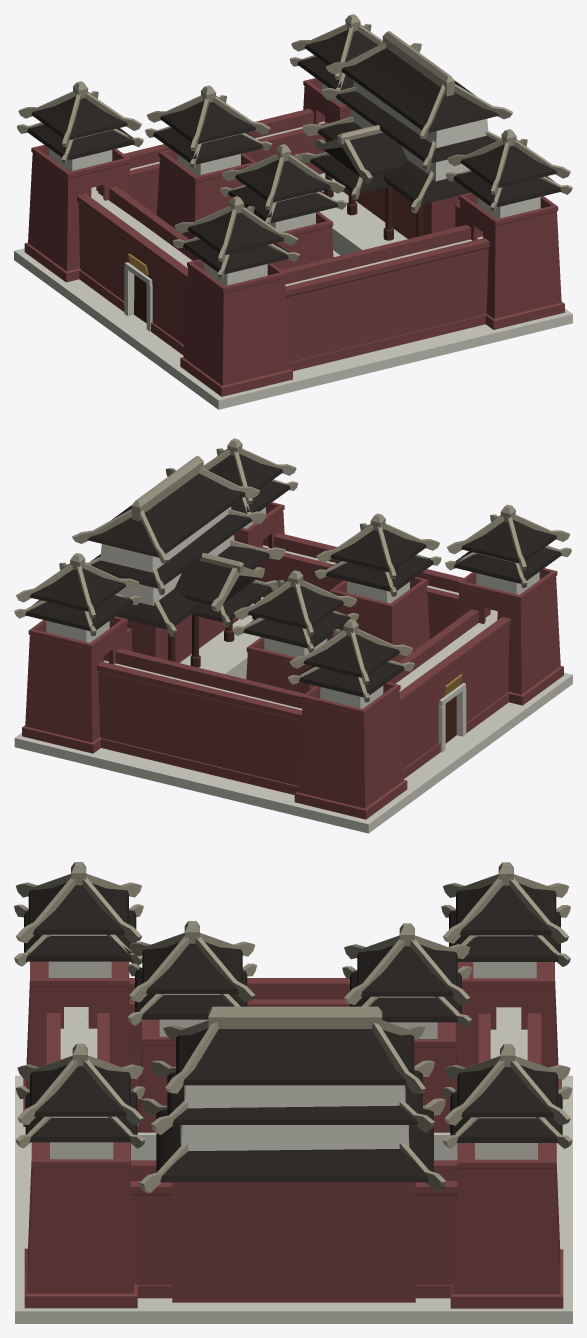
Rendered from fangzi_lv3.fbx.
3 views of the same model, one above another, from view 1: azimuth 30°, elevation 25°; view 2: azimuth 150°, elevation 25°; view 3: azimuth 270°, elevation 25° (orthographic). The views are drawn at different scales.
Parts seen in each view (by area): view 1: chengqiang_2 (×6), chengqiang_1, wuding_1 (×6), diban, wuding_2 (×6), wuding_5, pCube43 (×5), wuding_4, pCube25, neichengqiang, pCube44, wuding_7 (+7 smaller); view 2: chengqiang_2 (×6), chengqiang_1, wuding_1 (×6), diban, wuding_2 (×6), wuding_5, pCube43 (×5), wuding_4, pCube25, pCube44, wuding_7, neichengqiang (+7 smaller); view 3: chengqiang_2 (×6), pCube25, wuding_1 (×6), chengqiang_1, diban, wuding_2 (×6), wuding_5, pCube44, wuding_7, wuding_4, pCube43 (×4), pCube38 (+10 smaller).
Boxes of the visible parts, box(x1,y1,x2,y2) form: chengqiang_2 (×6): box(24, 78, 564, 396); chengqiang_1: box(77, 108, 489, 371); wuding_1 (×6): box(31, 30, 556, 254); diban: box(14, 248, 572, 409); wuding_2 (×6): box(27, 56, 561, 274); wuding_5: box(341, 48, 499, 132); pCube43 (×5): box(49, 130, 540, 285); wuding_4: box(335, 91, 496, 163); pCube25: box(343, 188, 459, 238); neichengqiang: box(319, 173, 407, 257); pCube44: box(350, 81, 488, 181); wuding_7: box(317, 122, 470, 204); chengqiang_2 (×6): box(22, 502, 563, 819); chengqiang_1: box(97, 533, 511, 794); wuding_1 (×6): box(29, 454, 557, 677); diban: box(14, 672, 572, 833); wuding_2 (×6): box(25, 481, 561, 697); wuding_5: box(87, 473, 245, 557); pCube43 (×5): box(46, 553, 539, 708); wuding_4: box(91, 514, 252, 588); pCube25: box(126, 614, 238, 662); pCube44: box(100, 506, 234, 605); wuding_7: box(116, 546, 270, 629); neichengqiang: box(180, 597, 263, 679); chengqiang_2 (×6): box(23, 961, 563, 1308); pCube25: box(172, 1182, 415, 1302); wuding_1 (×6): box(28, 882, 557, 1117); chengqiang_1: box(46, 978, 541, 1298); diban: box(15, 1075, 572, 1323); wuding_2 (×6): box(24, 910, 562, 1142); wuding_5: box(176, 1029, 414, 1085); pCube44: box(180, 1085, 409, 1150); wuding_7: box(156, 1109, 433, 1182); wuding_4: box(167, 1070, 422, 1124); pCube43 (×4): box(48, 934, 537, 1159); pCube38: box(208, 1006, 382, 1028).
Bounding box in the file's own units: 28.48 × 15.26 × 27.41.
